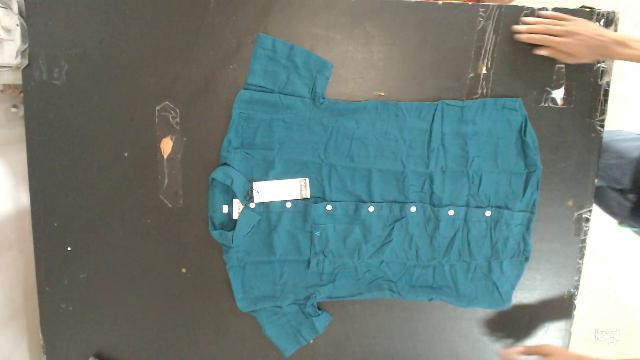new-garment: (208, 34, 541, 356)
